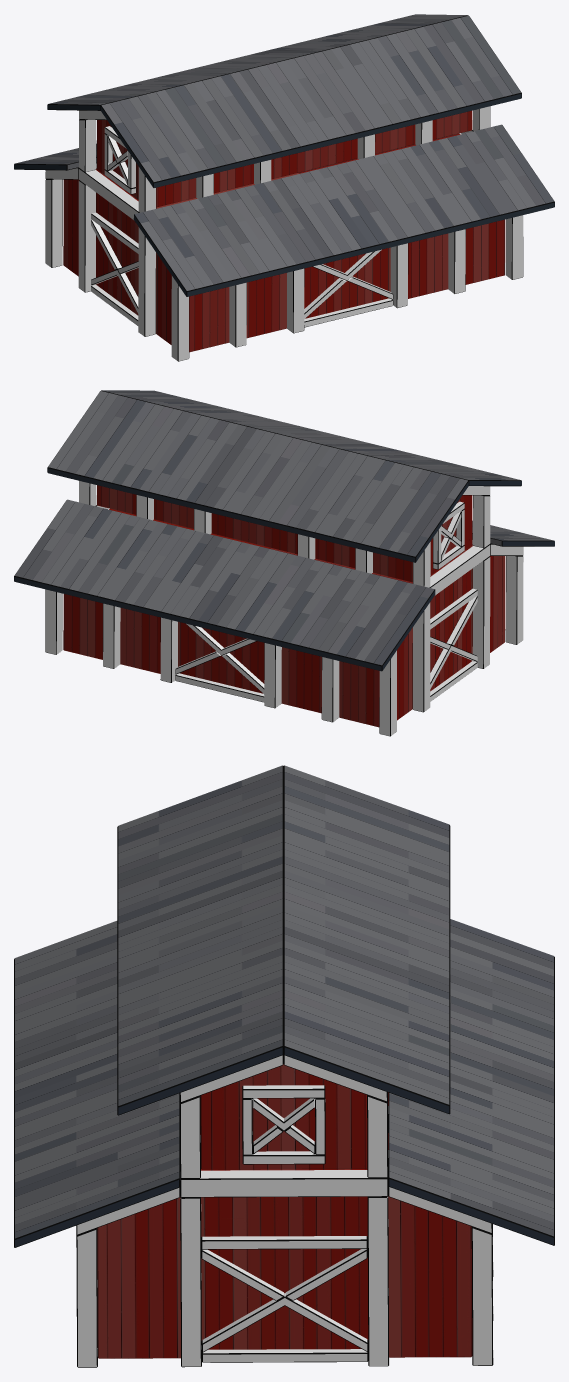
Rendered from barn.glb.
3 renders of one model, top to bottom at view 1: azimuth 30°, elevation 25°; view 2: azimuth 150°, elevation 25°; view 3: azimuth 270°, elevation 25°, orthographic. The views are drawn at different scales.
Visible parts, largest first — view 1: Base; view 2: Base; view 3: Base.
Boxes of the visible parts, x1,y1,x2,y2 form: Base: [14, 14, 554, 361]; Base: [14, 390, 554, 736]; Base: [14, 765, 554, 1367].
Size of the model in its own units: 32 by 17.53 by 26.
5 materials, 2 textured.
